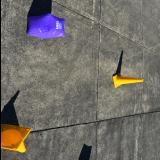cone: (0, 124, 30, 152), (111, 73, 143, 88)
cube: (26, 12, 64, 38)
